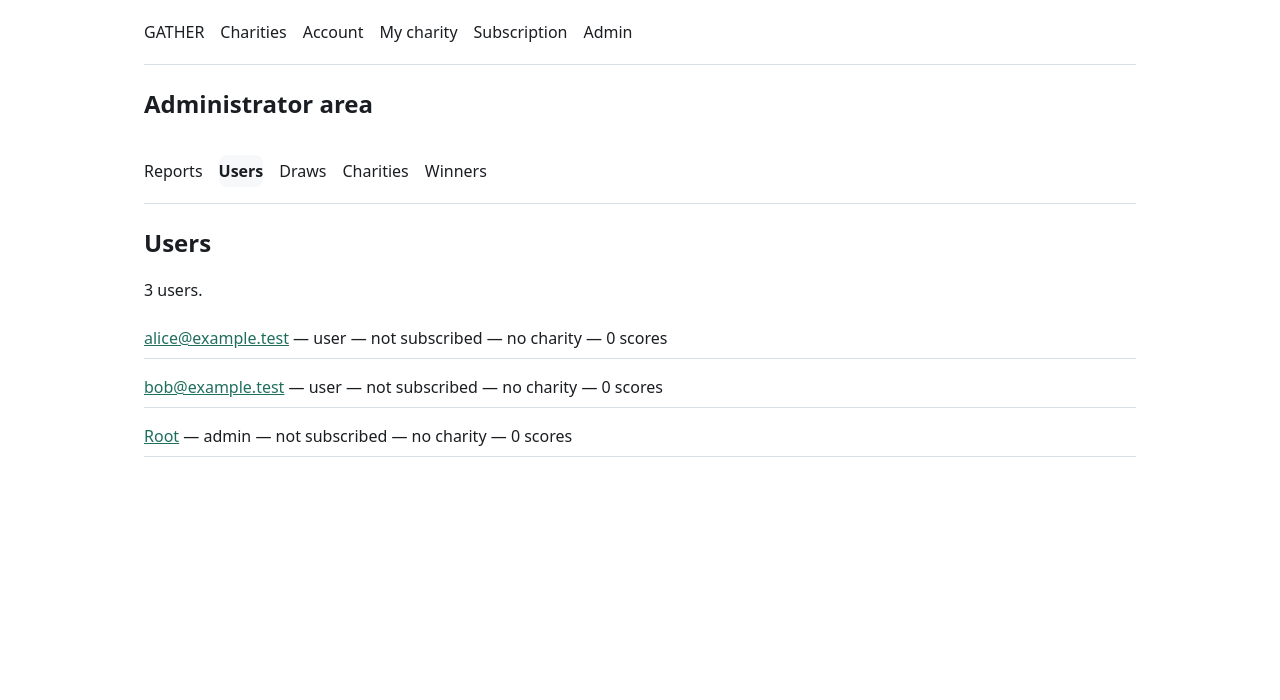
Test: Admin user management (PRD §11 ADM-01) › opens a user detail, edits the display name, and the change is saved server-side
Click the link "alice@example.test" at (216, 338), box [144,327,289,349]
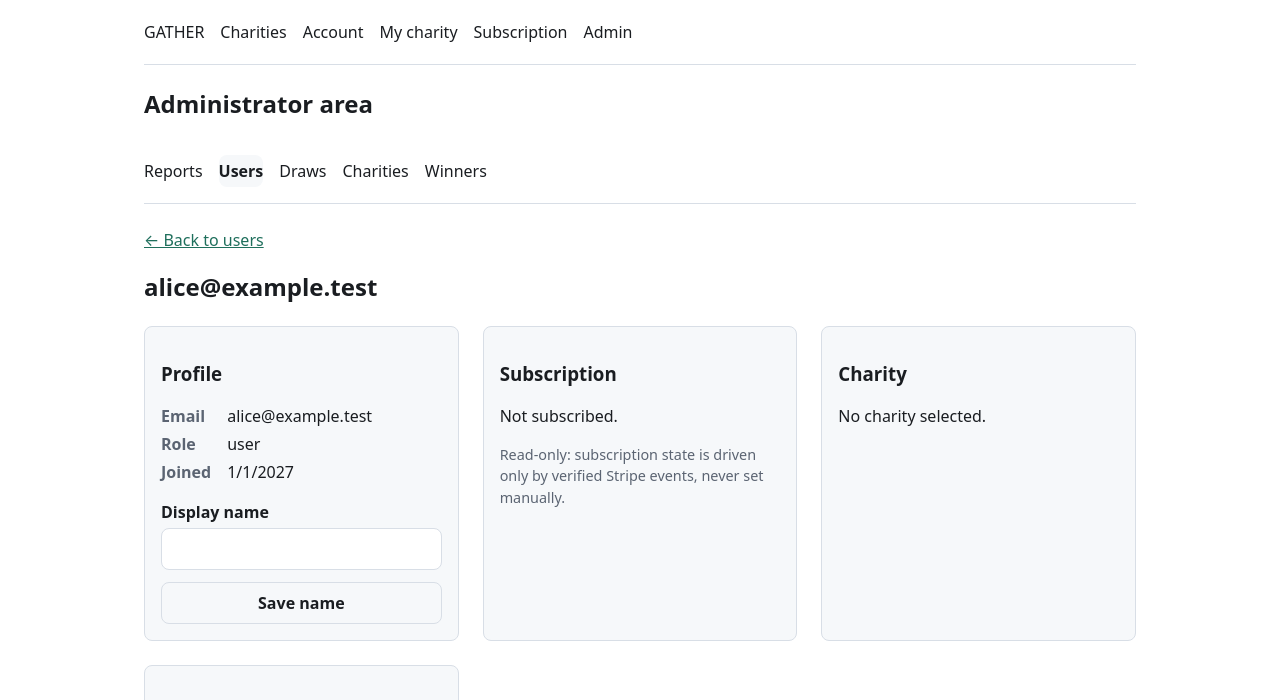
Type "Alice A." into the field labelled "Display name" at (301, 549), box [161,528,442,570]
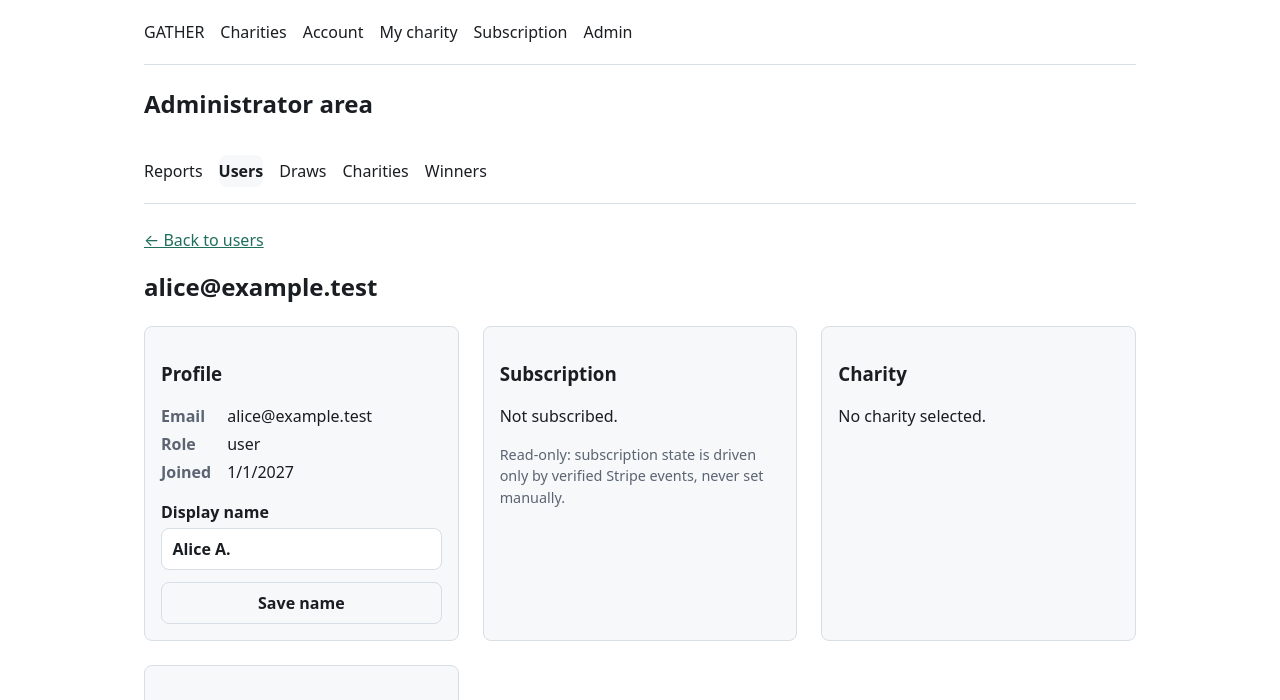
Click the button "Save name" at (301, 603), box [161,582,442,624]
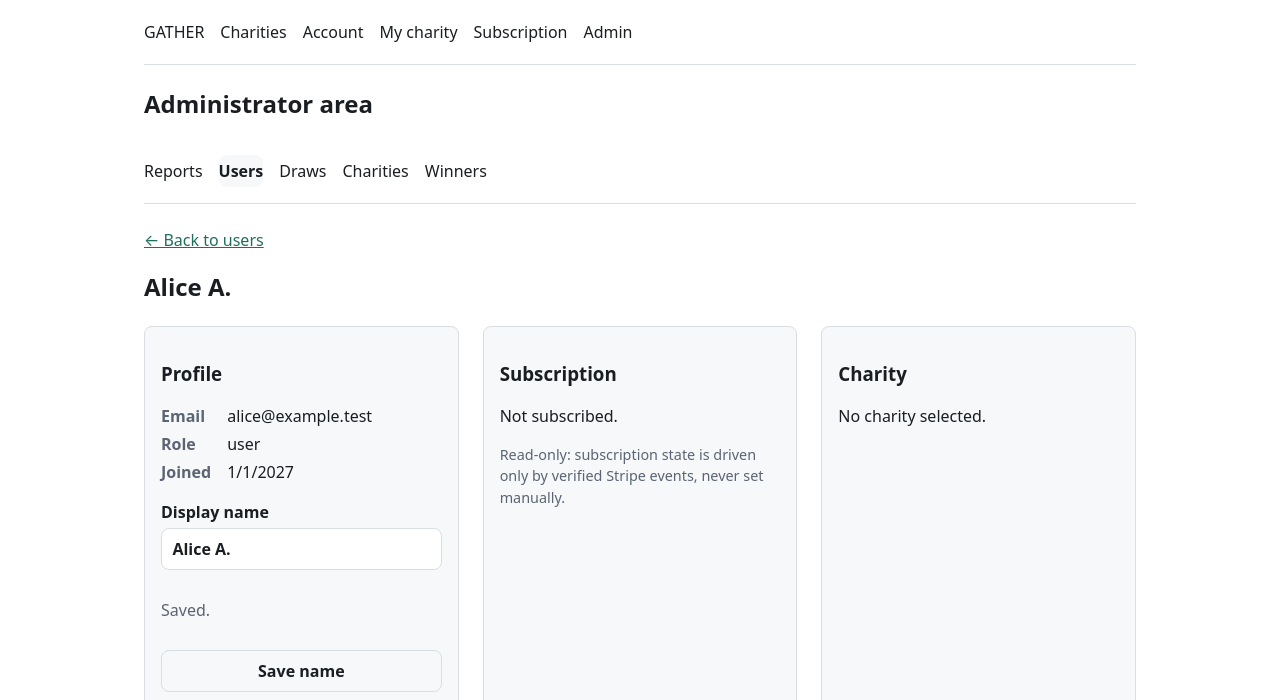
Now the text "Saved." is shown, box [161,599,210,621]
